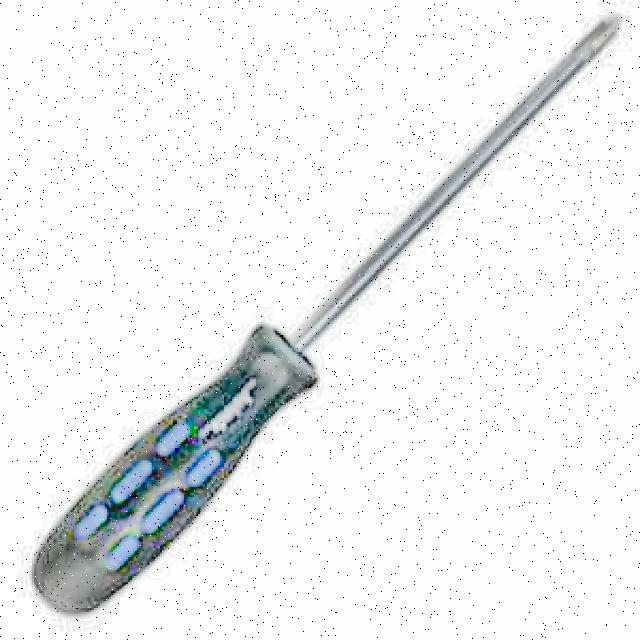screwdriver: (31, 13, 624, 616)
